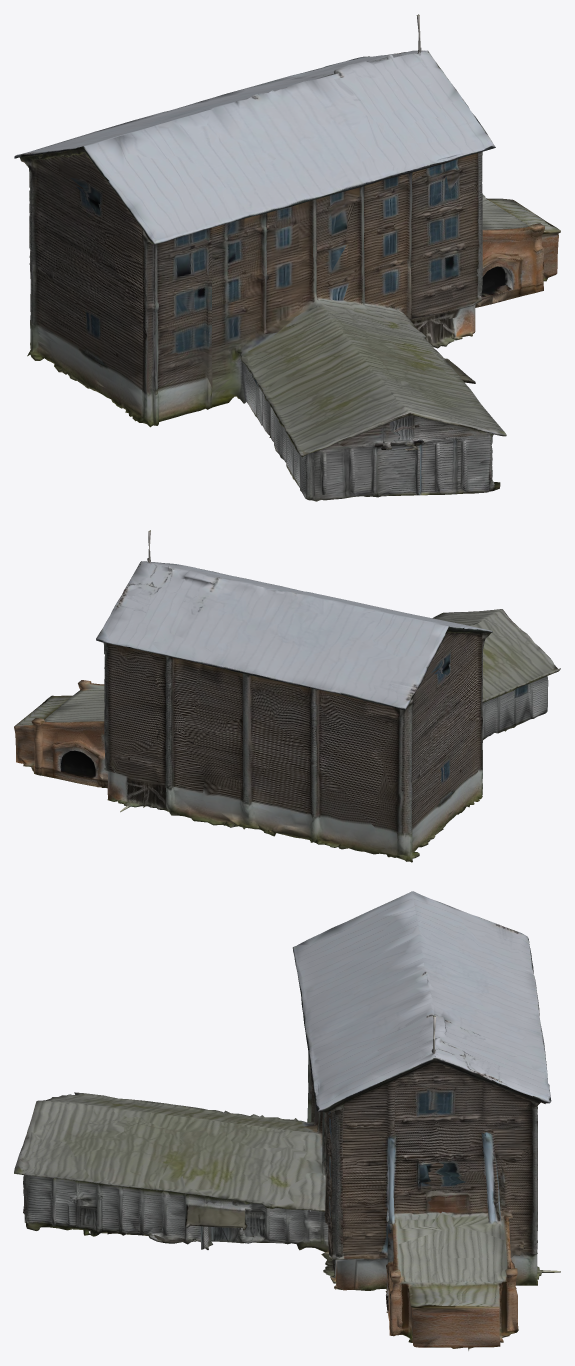
Rendered from shed.glb.
3 renders of one model, top to bottom at view 1: azimuth 30°, elevation 25°; view 2: azimuth 150°, elevation 25°; view 3: azimuth 270°, elevation 25°, orthographic. The views are drawn at different scales.
Parts seen in each view (by area): view 1: tripo_node_232caa9f-670c-40c1-8c6b-d3630e3d6c68; view 2: tripo_node_232caa9f-670c-40c1-8c6b-d3630e3d6c68; view 3: tripo_node_232caa9f-670c-40c1-8c6b-d3630e3d6c68.
Part boxes in pixels (<box>): tripo_node_232caa9f-670c-40c1-8c6b-d3630e3d6c68: <box>14,14,560,501</box>; tripo_node_232caa9f-670c-40c1-8c6b-d3630e3d6c68: <box>14,530,560,862</box>; tripo_node_232caa9f-670c-40c1-8c6b-d3630e3d6c68: <box>14,891,560,1350</box>.
Bounding box in the file's own units: 1.75 × 1 × 1.78.
Materials: 1 (1 with a texture image).
